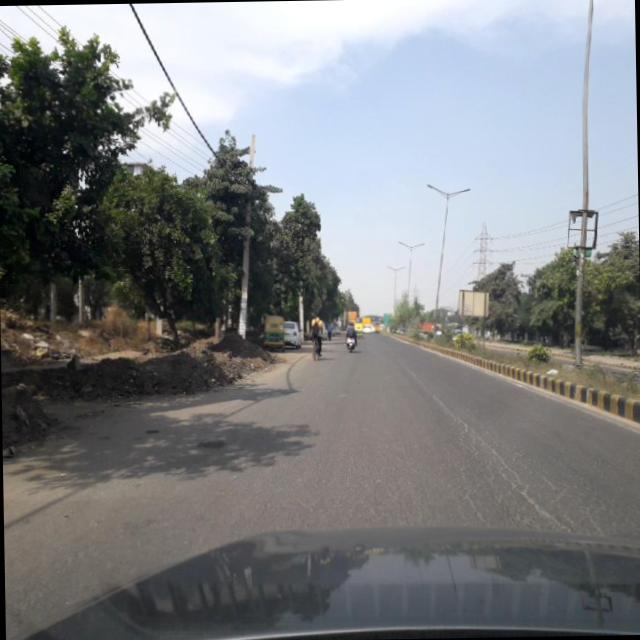crack: (427, 403, 607, 532)
pothole: (478, 436, 564, 522), (394, 358, 478, 442)
